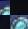mirror: (10, 15, 28, 29), (0, 0, 10, 15)
